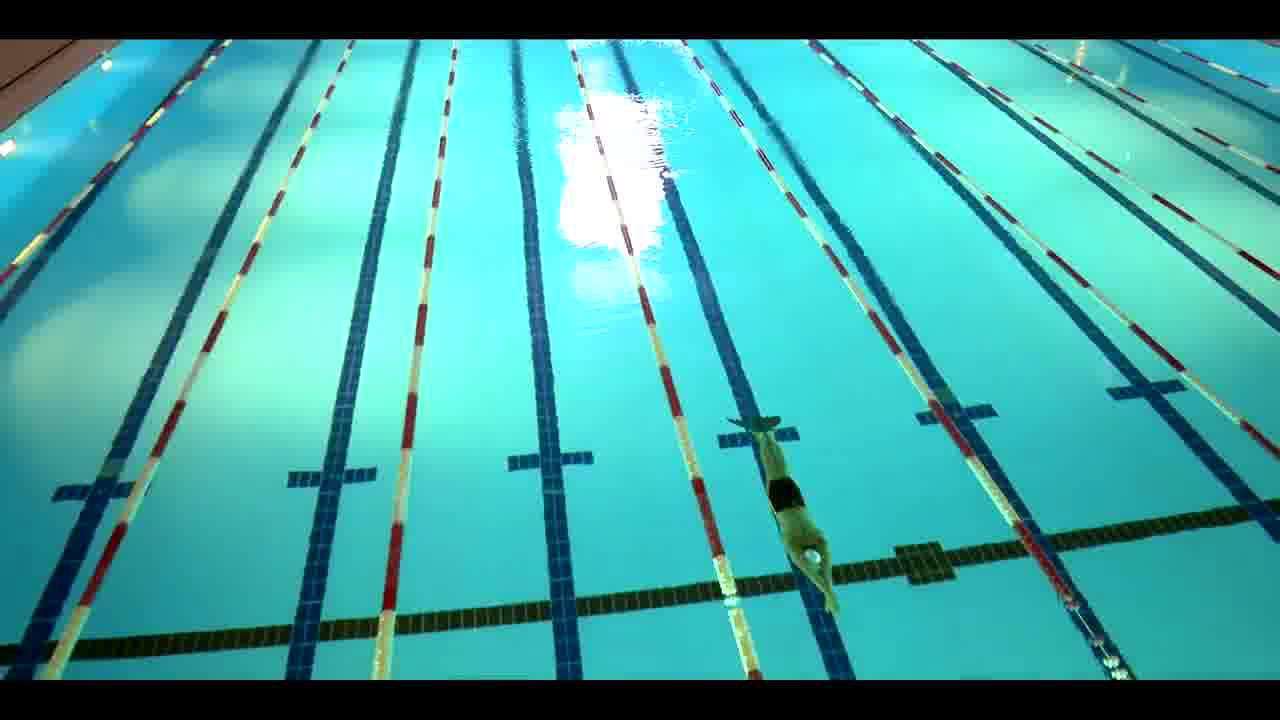human: (755, 425, 846, 623)
